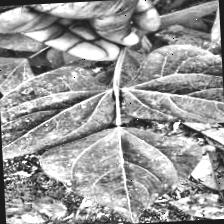Bean Rust: (37, 123, 199, 224), (0, 61, 116, 167), (121, 39, 224, 132)
